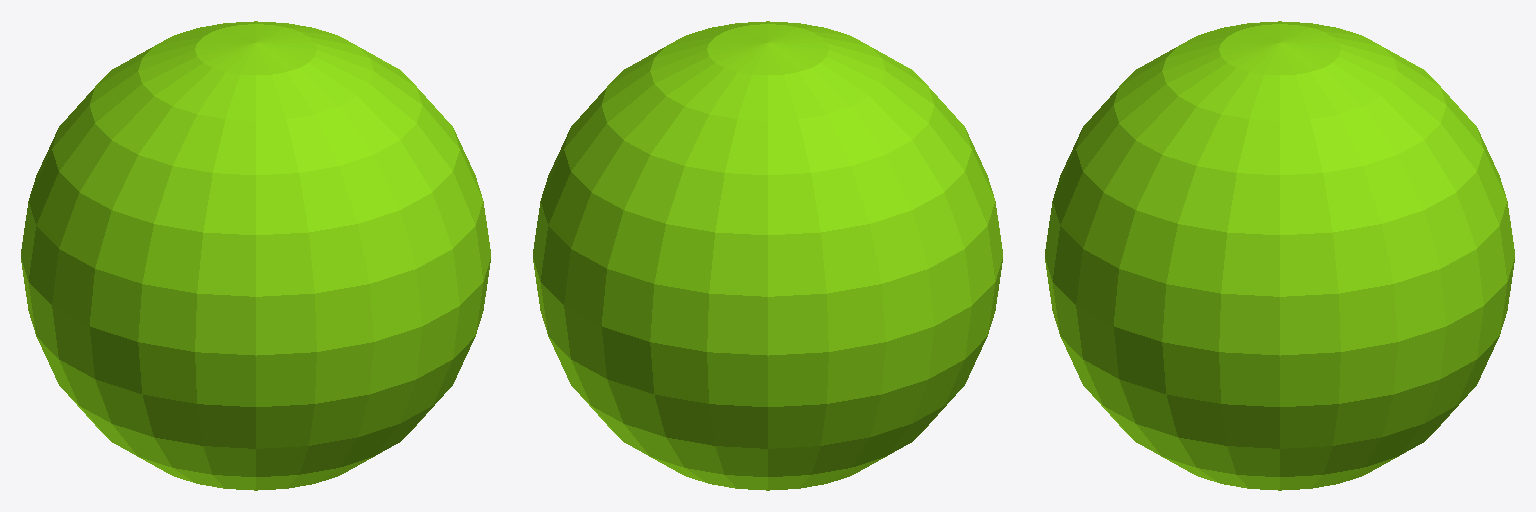
The model's file is testsf.obj.
3 renders of one model, left to right at view 1: azimuth 30°, elevation 25°; view 2: azimuth 150°, elevation 25°; view 3: azimuth 270°, elevation 25°, orthographic.
Parts seen in each view (by area): view 1: Sphere01; view 2: Sphere01; view 3: Sphere01.
Part boxes in pixels (x1,y1,x2,y2): Sphere01: (21,21,490,490); Sphere01: (533,21,1002,490); Sphere01: (1045,21,1514,490).
Bounding box in the file's own units: 30.5 × 30.5 × 30.5.